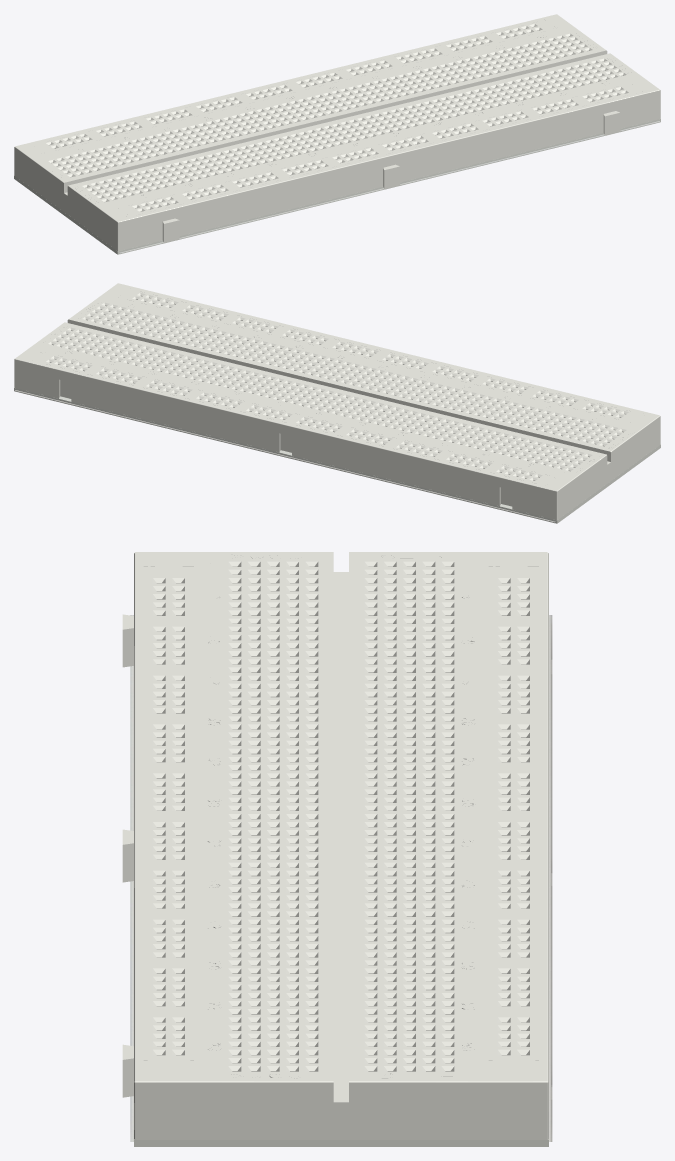
Rendered from breadboard-medium.glb.
3 renders of one model, top to bottom at view 1: azimuth 30°, elevation 25°; view 2: azimuth 150°, elevation 25°; view 3: azimuth 270°, elevation 25°, orthographic. The views are drawn at different scales.
Parts seen in each view (by area): view 1: Breadboard shell 2, Breadboard shell 1, Breadboard photographic top; view 2: Breadboard shell 2, Breadboard shell 1, Breadboard photographic top; view 3: Breadboard shell 2, Breadboard photographic top, Breadboard shell 1.
Part boxes in pixels (x1,y1,x2,y2): Breadboard shell 2: [14, 14, 660, 251]; Breadboard shell 1: [14, 118, 660, 254]; Breadboard photographic top: [119, 121, 659, 253]; Breadboard shell 2: [14, 283, 660, 520]; Breadboard shell 1: [14, 387, 660, 523]; Breadboard photographic top: [15, 390, 555, 522]; Breadboard shell 2: [122, 552, 548, 1139]; Breadboard photographic top: [130, 615, 552, 1141]; Breadboard shell 1: [134, 1139, 548, 1146].
Size of the model in its own units: 166 by 9.5 by 56.73.
3 materials, 1 textured.
